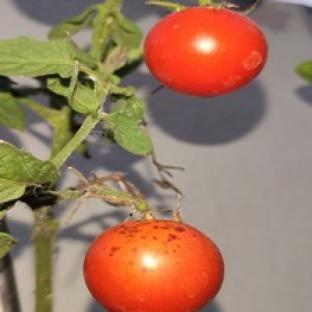Tomato: (84, 221, 224, 311), (144, 7, 267, 96)
